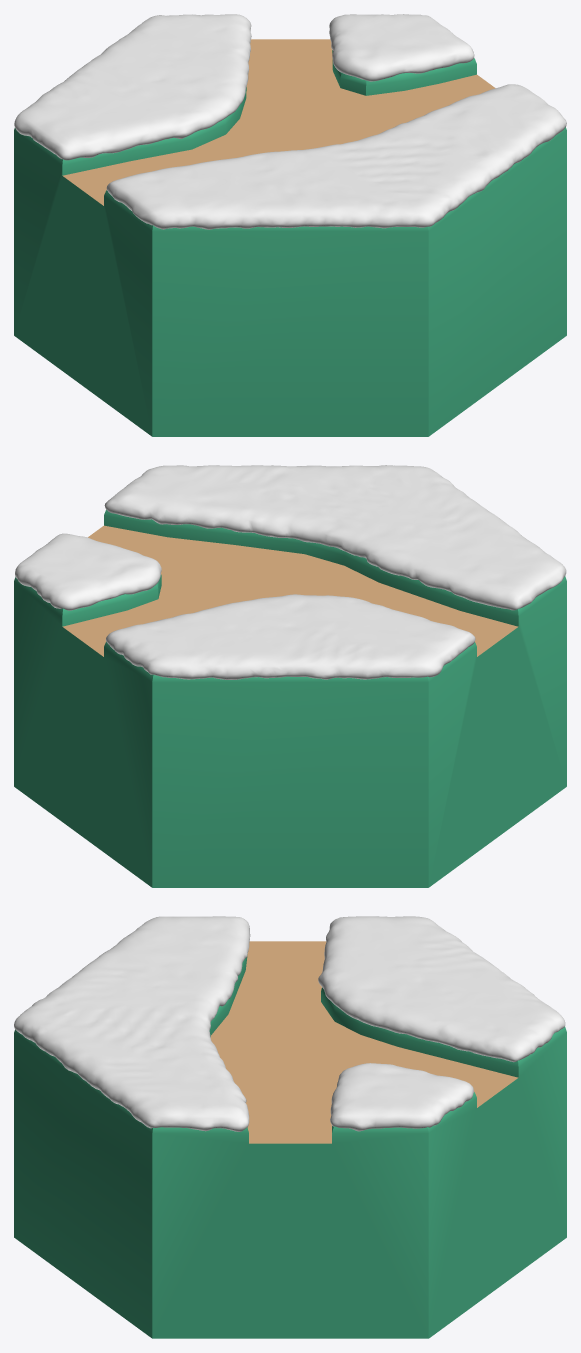
Rendered from snow_hex_forest_roadF.fbx.
3 renders of one model, top to bottom at view 1: azimuth 30°, elevation 25°; view 2: azimuth 150°, elevation 25°; view 3: azimuth 270°, elevation 25°, orthographic.
Visible parts, largest first — view 1: hex_forest_roadF.001, SnowBall.001, hex_forest_roadF; view 2: hex_forest_roadF.001, SnowBall.001, hex_forest_roadF; view 3: hex_forest_roadF.001, SnowBall.001, hex_forest_roadF.
Part boxes in pixels (x1,y1,x2,y2): hex_forest_roadF.001: (14,50,566,436); SnowBall.001: (14,14,566,229); hex_forest_roadF: (62,39,495,205); hex_forest_roadF.001: (14,510,566,887); SnowBall.001: (15,465,566,679); hex_forest_roadF: (62,525,518,656); hex_forest_roadF.001: (14,956,566,1338); SnowBall.001: (14,916,565,1131); hex_forest_roadF: (210,941,518,1143).
Bounding box in the file's own units: 203 × 104 × 231.
